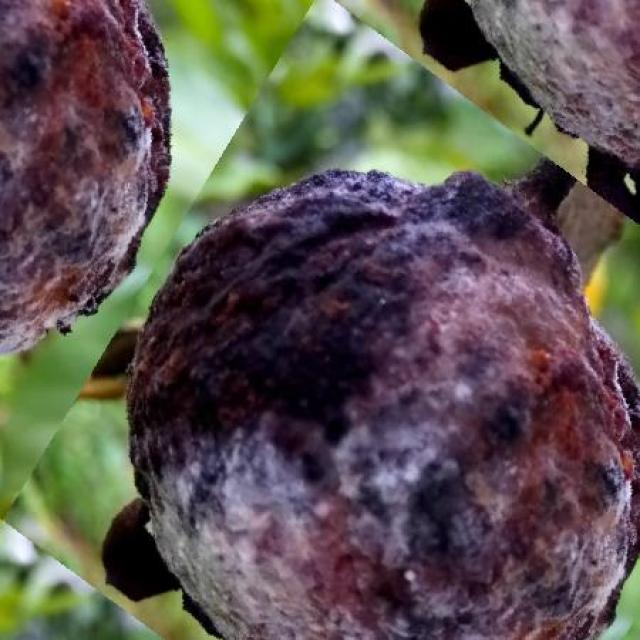Phytopthora: (94, 162, 640, 640), (0, 0, 170, 352), (468, 0, 640, 171)
